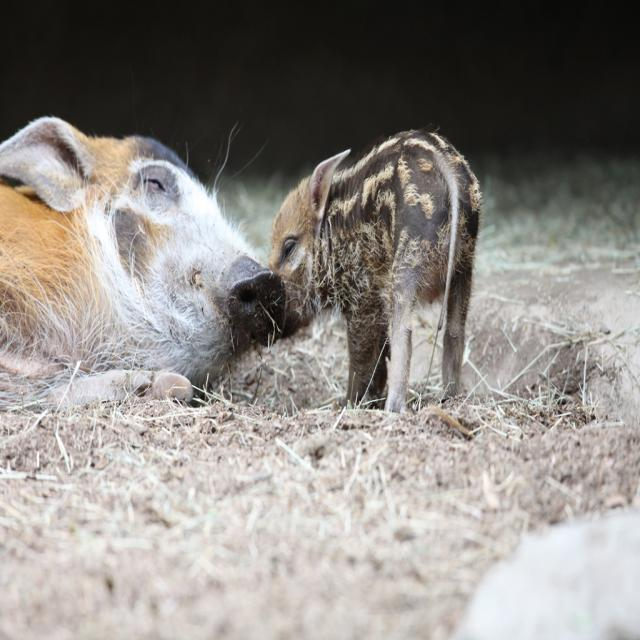Pig: (0, 110, 287, 410), (269, 124, 485, 411)
